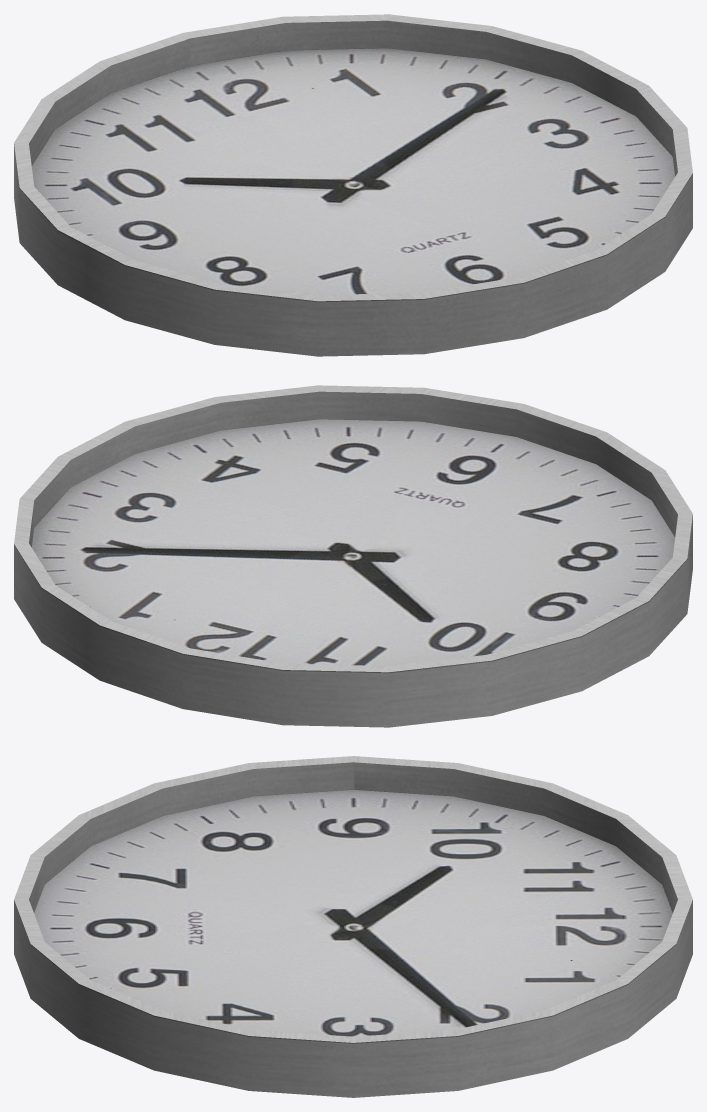
The model's file is clockLarge.fbx.
3 views of the same model, one above another, from view 1: azimuth 30°, elevation 25°; view 2: azimuth 150°, elevation 25°; view 3: azimuth 270°, elevation 25° (orthographic).
Parts seen in each view (by area): view 1: largeClock; view 2: largeClock; view 3: largeClock.
Boxes of the visible parts, bbox=[...] form: largeClock: bbox=[14, 14, 692, 356]; largeClock: bbox=[14, 385, 692, 727]; largeClock: bbox=[14, 756, 692, 1097].
Size of the model in its own units: 6.07 by 0.5421 by 6.07.
